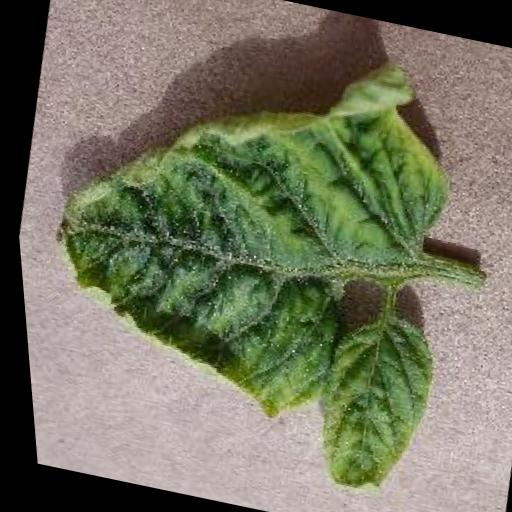Yellow Leaf Curl Virus: (0, 1, 489, 501)
